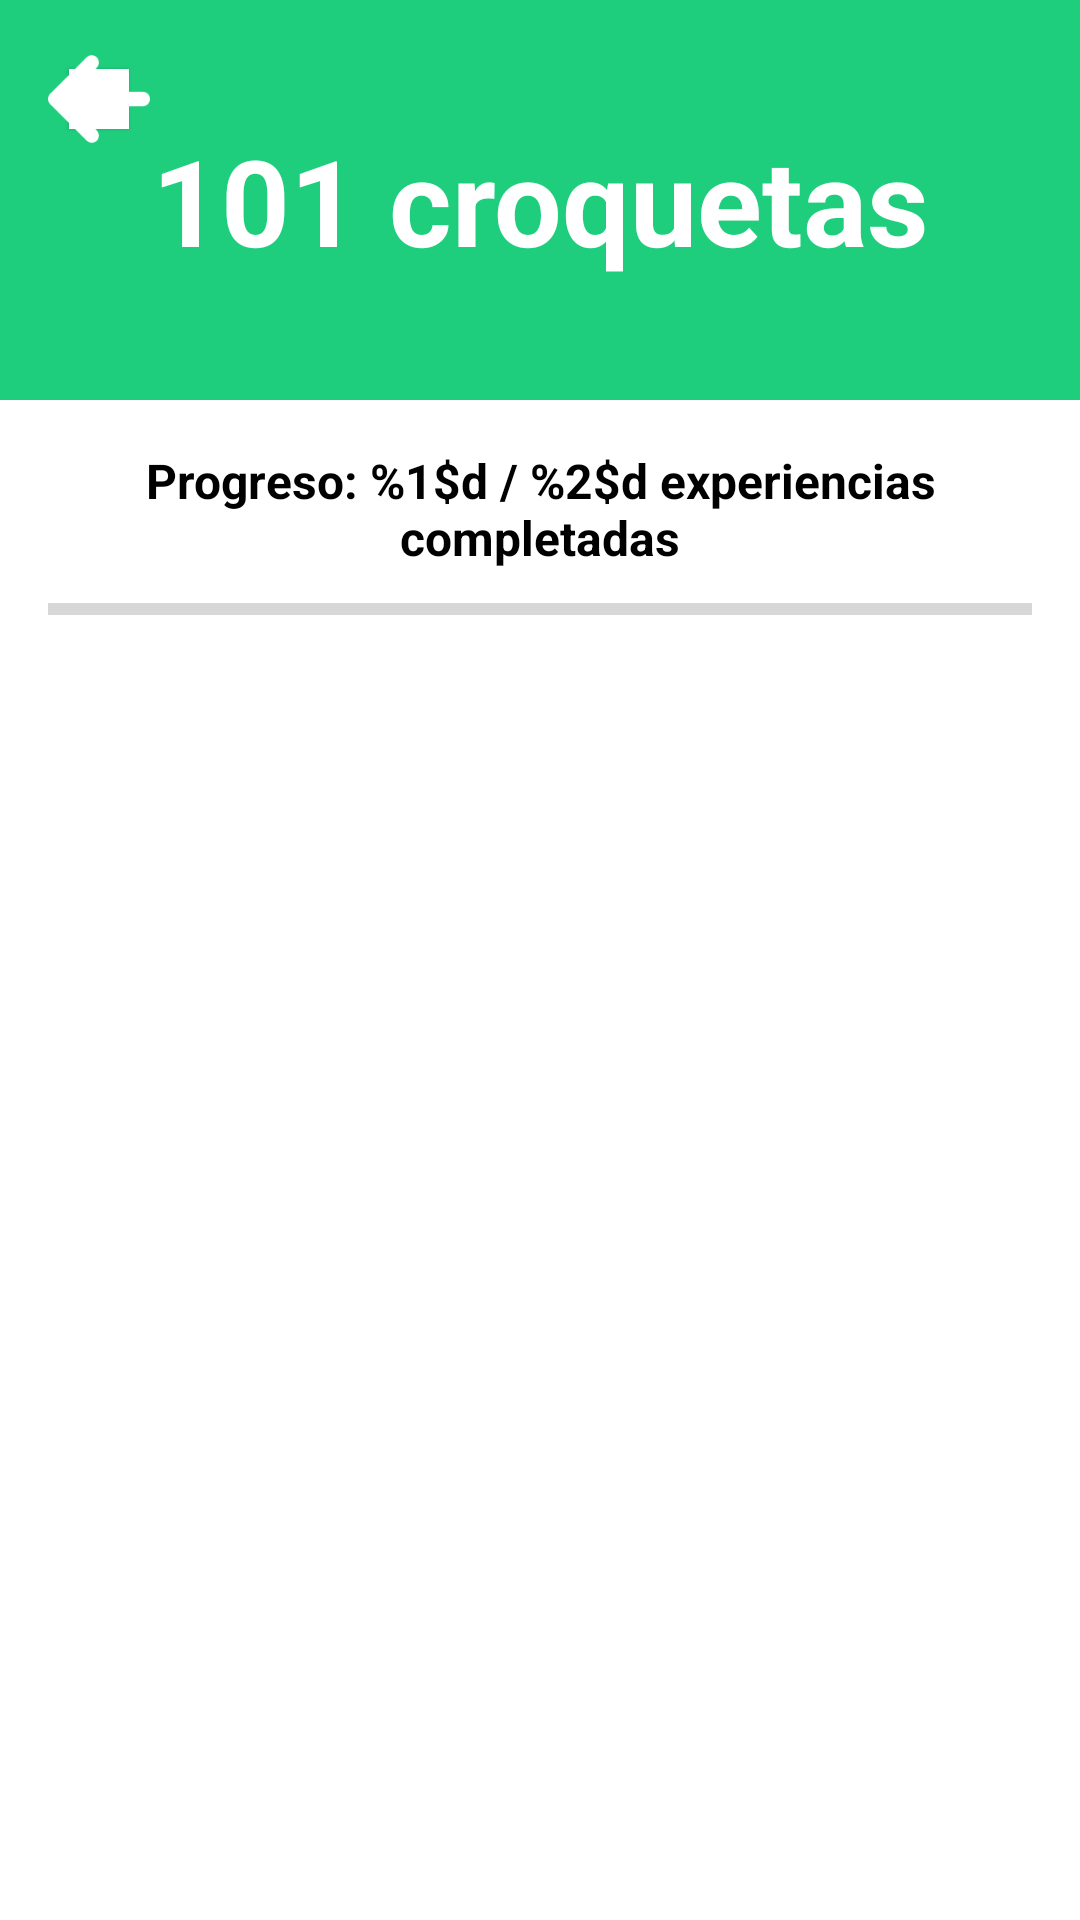

Where to tap for icons on this 1080*1920 app screen, as point (x, y):
flecha izquierda: point (99, 99)
